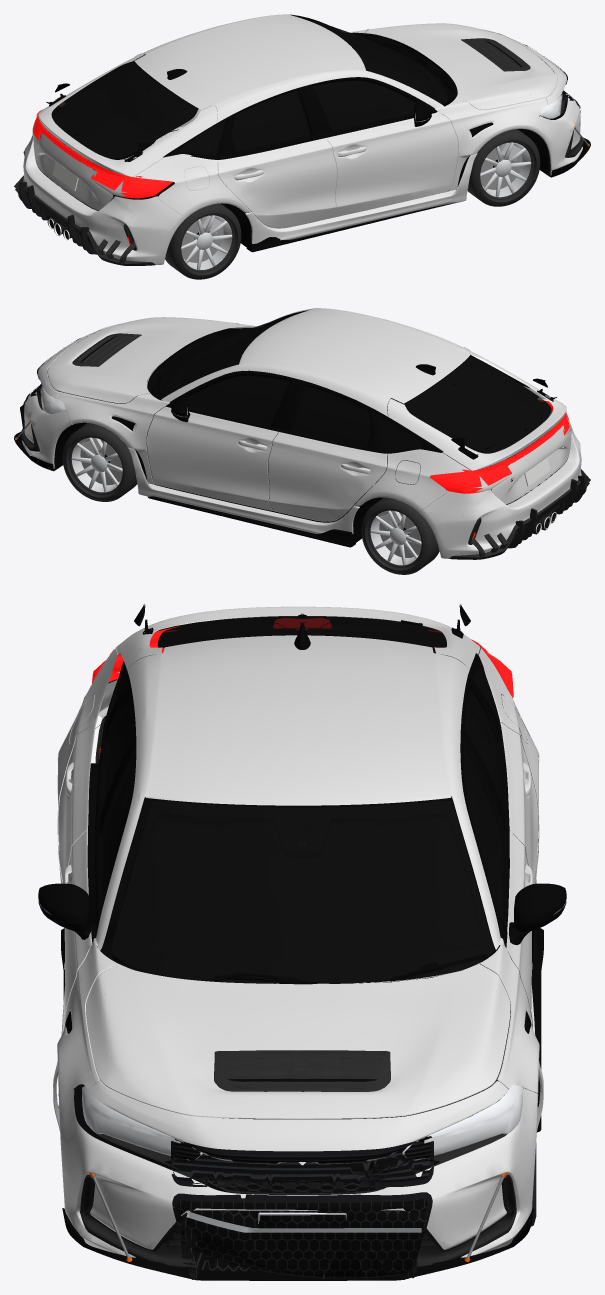
Rendered from hondo_civix.glb.
3 views of the same model, one above another, from view 1: azimuth 30°, elevation 25°; view 2: azimuth 150°, elevation 25°; view 3: azimuth 270°, elevation 25° (orthographic). The views are drawn at different scales.
Parts seen in each view (by area): view 1: core, part_glass, part_roof, part_fender_fr, part_door_fr, part_hood, part_door_rr, part_quarter_rr, part_trunk, part_rear_bumper, wheel_rr, wheel_fr (+3 smaller); view 2: core, part_glass, part_roof, part_door_fl, part_hood, part_fender_fl, part_door_rl, part_trunk, part_quarter_rl, part_rear_bumper, wheel_rl, wheel_fl (+5 smaller); view 3: core, part_glass, part_hood, part_roof, part_front_bumper, liner_trim, part_fender_fr, part_fender_fl, part_trunk, headlight_l, part_quarter_rr, part_quarter_rl (+5 smaller).
Boxes of the visible parts, x1,y1,x2,y2 form: core: [14, 14, 590, 265]; part_glass: [51, 17, 447, 158]; part_roof: [69, 14, 406, 156]; part_fender_fr: [407, 88, 563, 211]; part_door_fr: [316, 120, 413, 232]; part_hood: [349, 23, 565, 102]; part_door_rr: [241, 140, 321, 243]; part_quarter_rr: [124, 155, 249, 221]; part_trunk: [24, 94, 180, 221]; part_rear_bumper: [23, 145, 183, 264]; wheel_rr: [165, 203, 241, 279]; wheel_fr: [467, 129, 540, 206]; core: [14, 310, 590, 559]; part_glass: [154, 314, 551, 453]; part_roof: [197, 308, 535, 450]; part_door_fl: [191, 414, 288, 525]; part_hood: [39, 314, 289, 400]; part_fender_fl: [42, 384, 197, 504]; part_door_rl: [283, 434, 363, 533]; part_trunk: [424, 388, 580, 515]; part_quarter_rl: [355, 449, 480, 515]; part_rear_bumper: [421, 439, 581, 558]; wheel_rl: [361, 497, 439, 574]; wheel_fl: [62, 423, 137, 501]; core: [38, 604, 566, 1280]; part_glass: [101, 616, 503, 983]; part_hood: [104, 861, 499, 1148]; part_roof: [112, 635, 484, 875]; part_front_bumper: [59, 1083, 537, 1257]; liner_trim: [89, 842, 507, 1279]; part_fender_fr: [53, 896, 156, 1130]; part_fender_fl: [449, 914, 543, 1131]; part_trunk: [57, 606, 539, 761]; headlight_l: [275, 1084, 522, 1219]; part_quarter_rr: [57, 650, 122, 847]; part_quarter_rl: [474, 650, 539, 847].
Bounding box in the file's own units: 4.6 × 1.41 × 2.07.
Materials: 21 (6 with a texture image).
